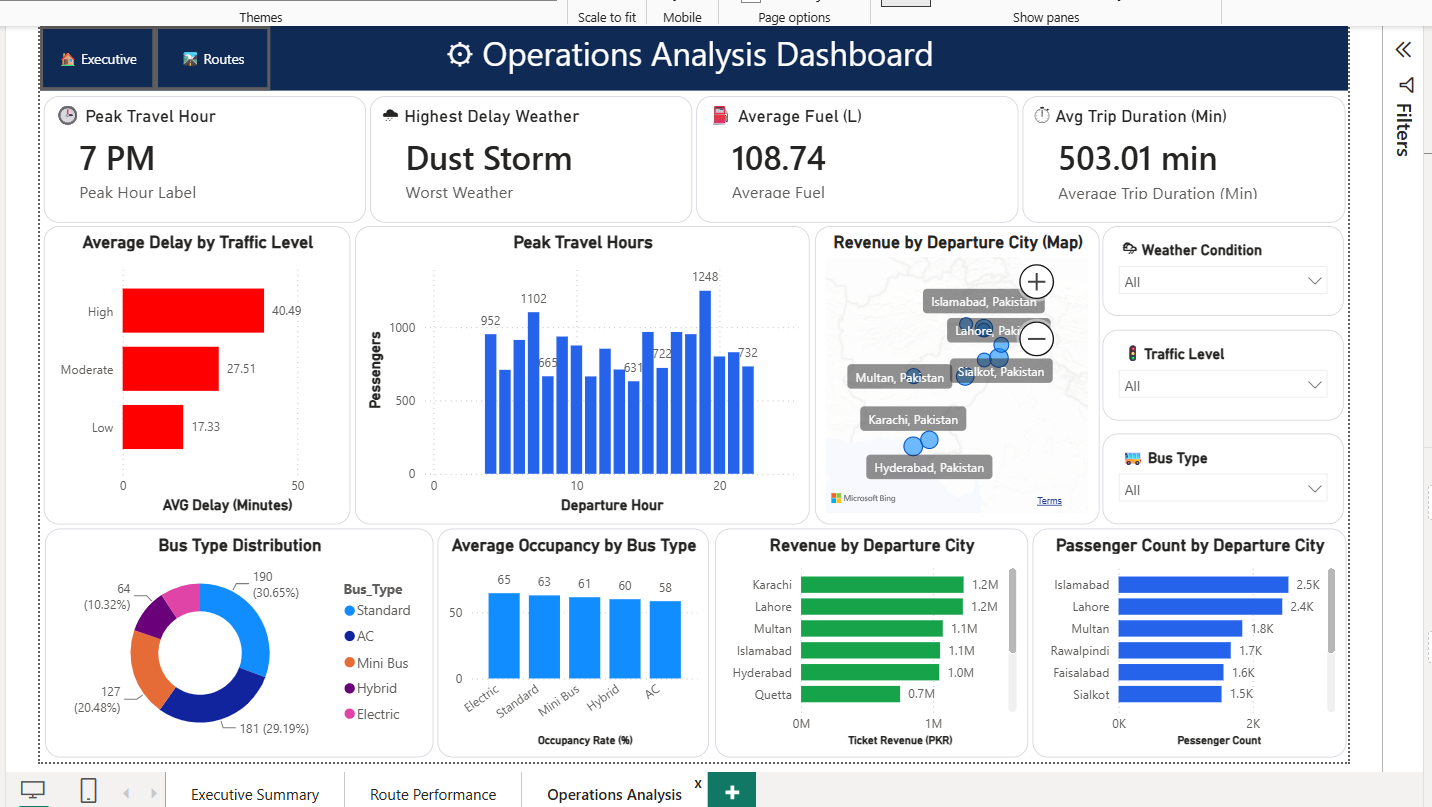

This screenshot's page, from the dashboard's own definition file:
{"tool":"powerbi","page":{"name":"Operations Analysis","canvas":[1280,720],"ordinal":2},"visuals":[{"type":"textbox","box":[0,0,1280,62.9],"z":0},{"type":"cardVisual","title":"🕒 Peak Travel Hour","fields":{"Data":["dashboard_dataset.Peak Hour"]},"box":[4,68,315,124],"z":1000},{"type":"cardVisual","title":"🌧 Highest Delay Weather","fields":{"Data":["dashboard_dataset.Worst Weather"]},"box":[323,68,315,124],"z":2000},{"type":"cardVisual","title":"⛽ Average Fuel (L)","fields":{"Data":["dashboard_dataset.Average Fuel"]},"box":[642,68,315,124],"z":3000},{"type":"cardVisual","title":"⏱ Avg Trip Duration (Min)","fields":{"Data":["dashboard_dataset.Average Trip Duration (Min)"]},"box":[961,68,315.7,124.3],"z":4000},{"type":"clusteredBarChart","title":"Average Delay by Traffic Level","fields":{"Category":["dashboard_dataset.Traffic_Level"],"Y":["Avg(dashboard_dataset.Delay_Minutes)"]},"box":[4,196,300,292],"z":5000},{"type":"clusteredColumnChart","title":"Peak Travel Hours","fields":{"Category":["dashboard_dataset.Departure_Hour"],"Y":["Sum(dashboard_dataset.Passenger_Count)"]},"box":[308,196,445,292],"z":6000},{"type":"clusteredBarChart","title":"Revenue by Departure City","fields":{"Category":["dashboard_dataset.Departure_City"],"Y":["Sum(dashboard_dataset.Ticket_Revenue_PKR)"]},"box":[660,491.4,306,224.3],"z":7000},{"type":"clusteredBarChart","title":"Passenger Count by Departure City","fields":{"Category":["dashboard_dataset.Departure_City"],"Y":["Sum(dashboard_dataset.Passenger_Count)"]},"box":[971.4,491.4,307.1,224.3],"z":8000},{"type":"donutChart","title":"Bus Type Distribution","fields":{"Category":["dashboard_dataset.Bus_Type"],"Y":["CountNonNull(dashboard_dataset.Trip_ID)"]},"box":[4.4,492,380,224],"z":9000},{"type":"clusteredColumnChart","title":"Average Occupancy by Bus Type","fields":{"Category":["dashboard_dataset.Bus_Type"],"Y":["dashboard_dataset.Average Occupancy"]},"box":[388.6,491.4,265.7,224.3],"z":10000},{"type":"slicer","fields":{"Values":["dashboard_dataset.Weather_Condition"]},"box":[1040,196,236,88],"z":11000},{"type":"slicer","fields":{"Values":["dashboard_dataset.Traffic_Level"]},"box":[1040,297.1,236,88.6],"z":12000},{"type":"slicer","fields":{"Values":["dashboard_dataset.Bus_Type"]},"box":[1040,398.6,236,88.6],"z":13000},{"type":"map","title":"Revenue by Departure City (Map)","fields":{"Size":["Sum(dashboard_dataset.Ticket_Revenue_PKR)"],"Category":["dashboard_dataset.Location"]},"box":[758,196,278,292],"z":14000},{"type":"actionButton","title":"🛣️ Routes","box":[112.9,0,112.9,62.9],"z":15000},{"type":"actionButton","title":"🛣️ Routes","box":[0,0,112.9,62.9],"z":16000}]}

Visuals, with their boxes on the page's 1280x720 design canvas (x1, y1, x2, y2). These are canvas units, not pixel positions in the 1432x807 screenshot, which may show the page scaled, cropped or inside an application window:
textbox: {"left": 0, "top": 0, "right": 1280, "bottom": 63}
"🕒 Peak Travel Hour" cardVisual: {"left": 4, "top": 68, "right": 319, "bottom": 192}
"🌧 Highest Delay Weather" cardVisual: {"left": 323, "top": 68, "right": 638, "bottom": 192}
"⛽ Average Fuel (L)" cardVisual: {"left": 642, "top": 68, "right": 957, "bottom": 192}
"⏱ Avg Trip Duration (Min)" cardVisual: {"left": 961, "top": 68, "right": 1277, "bottom": 192}
"Average Delay by Traffic Level" clusteredBarChart: {"left": 4, "top": 196, "right": 304, "bottom": 488}
"Peak Travel Hours" clusteredColumnChart: {"left": 308, "top": 196, "right": 753, "bottom": 488}
"Revenue by Departure City" clusteredBarChart: {"left": 660, "top": 491, "right": 966, "bottom": 716}
"Passenger Count by Departure City" clusteredBarChart: {"left": 971, "top": 491, "right": 1278, "bottom": 716}
"Bus Type Distribution" donutChart: {"left": 4, "top": 492, "right": 384, "bottom": 716}
"Average Occupancy by Bus Type" clusteredColumnChart: {"left": 389, "top": 491, "right": 654, "bottom": 716}
slicer - dashboard_dataset.Weather_Condition: {"left": 1040, "top": 196, "right": 1276, "bottom": 284}
slicer - dashboard_dataset.Traffic_Level: {"left": 1040, "top": 297, "right": 1276, "bottom": 386}
slicer - dashboard_dataset.Bus_Type: {"left": 1040, "top": 399, "right": 1276, "bottom": 487}
"Revenue by Departure City (Map)" map: {"left": 758, "top": 196, "right": 1036, "bottom": 488}
"🛣️ Routes" actionButton: {"left": 113, "top": 0, "right": 226, "bottom": 63}
"🛣️ Routes" actionButton: {"left": 0, "top": 0, "right": 113, "bottom": 63}
